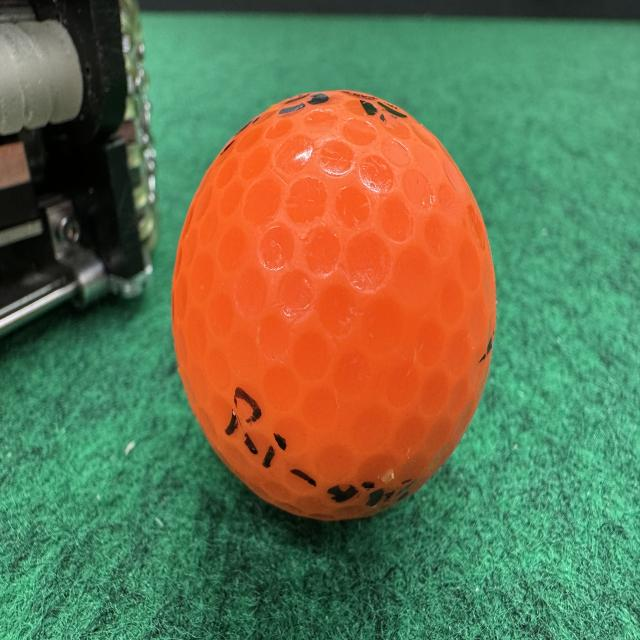ball: (165, 85, 502, 533)
